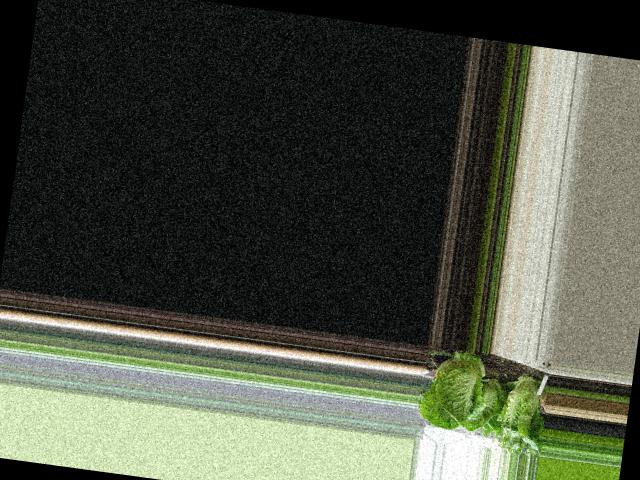lettuce: (493, 363, 546, 448)
